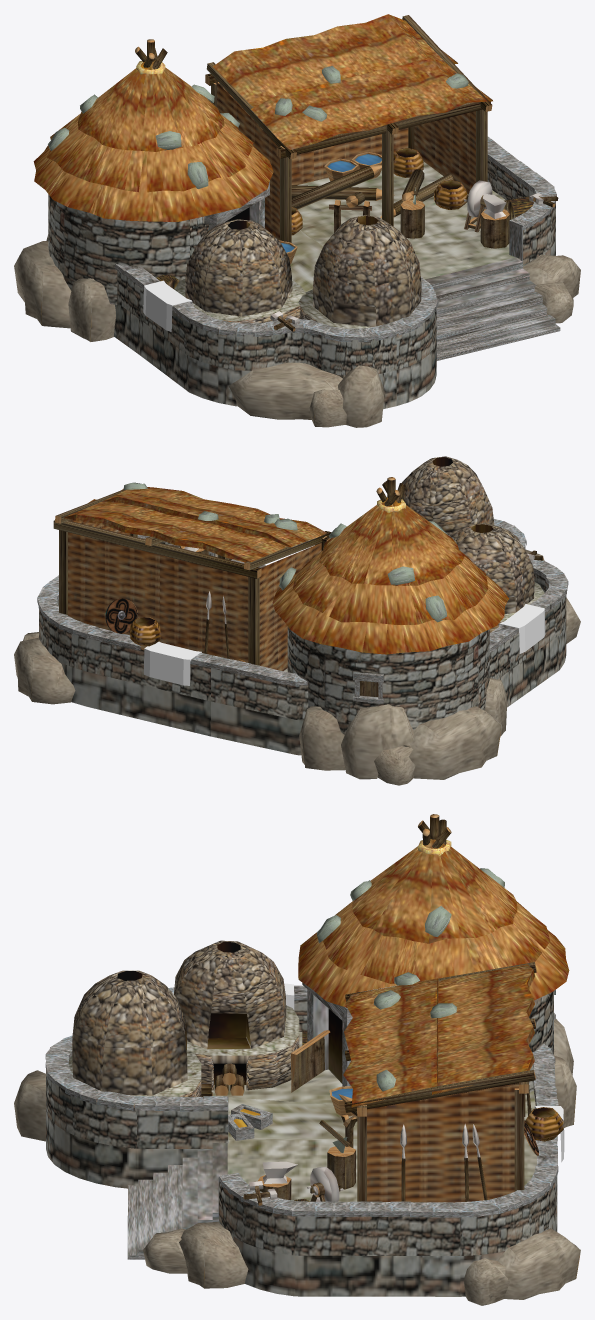
File: lusi_new_forge.dae
3 views of the same model, one above another, from view 1: azimuth 30°, elevation 25°; view 2: azimuth 150°, elevation 25°; view 3: azimuth 270°, elevation 25° (orthographic). The views are drawn at different scales.
Parts seen in each view (by area): view 1: lusi_blacksmith; view 2: lusi_blacksmith; view 3: lusi_blacksmith.
Part boxes in pixels (left/top/right/bottom): lusi_blacksmith: left=14, top=14, right=580, bottom=427; lusi_blacksmith: left=14, top=456, right=580, bottom=785; lusi_blacksmith: left=14, top=814, right=580, bottom=1305.
Bounding box in the file's own units: 26.06 × 24.1 × 13.79.
